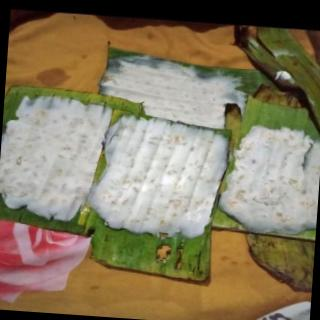Tempe: (90, 111, 233, 243)
